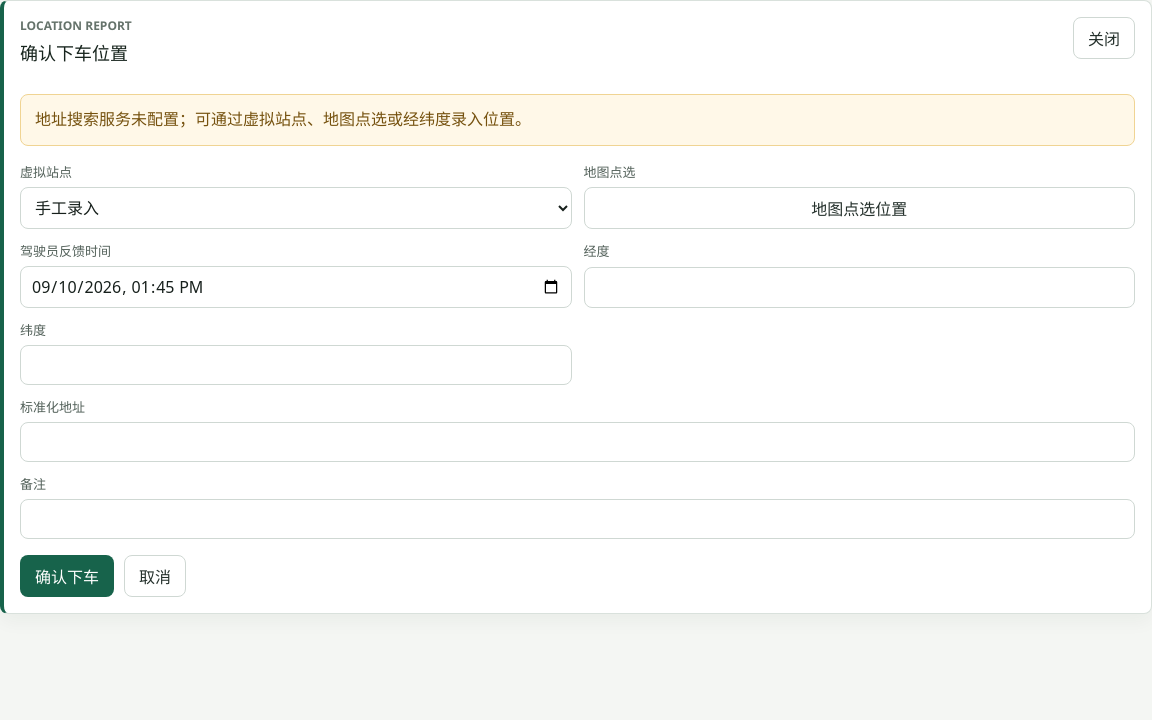
LocationReportPanel › fills coordinates and address from a virtual stop
Select "通渭县人民医院" in the dropdown labelled "虚拟站点" at (296, 208), box [20,187,572,229]
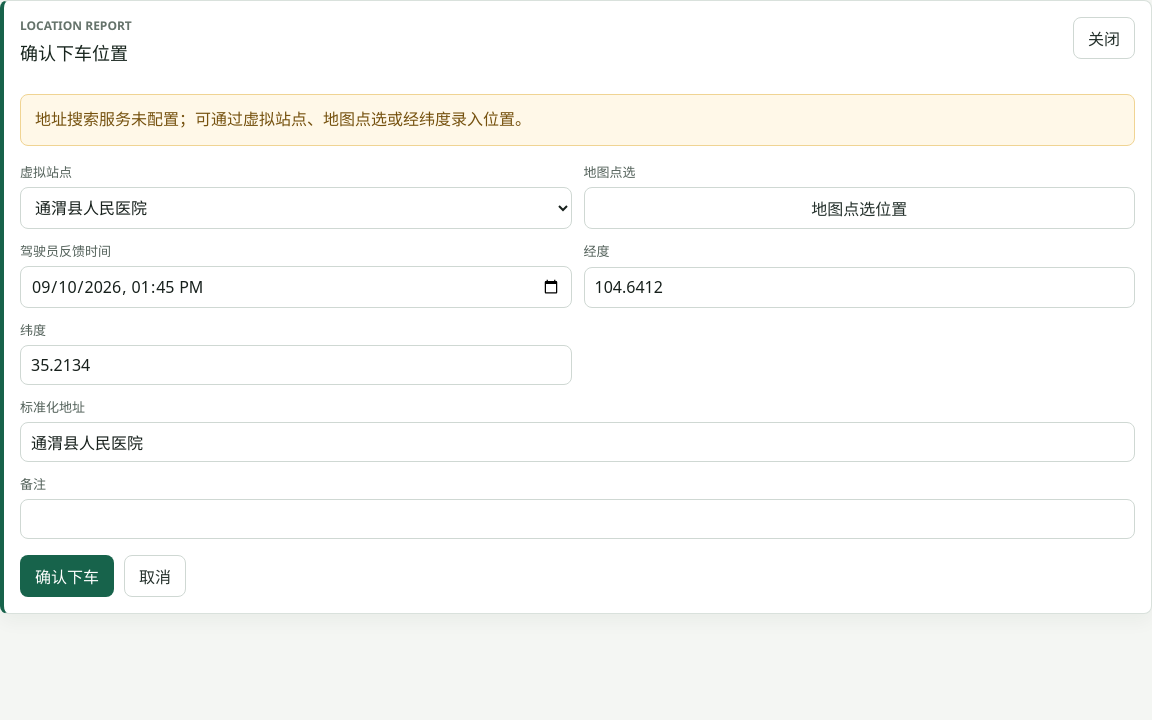
Check: the number field labelled "经度" holds "104.6412", box [584,267,1135,308]
Check: the number field labelled "纬度" holds "35.2134", box [20,345,572,385]
Check: the field labelled "标准化地址" holds "通渭县人民医院", box [20,422,1135,462]
